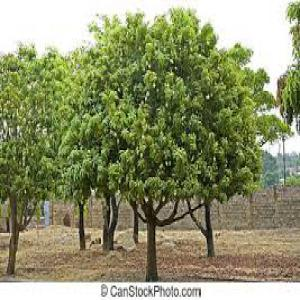Tree: (82, 6, 283, 274), (0, 41, 85, 272)
